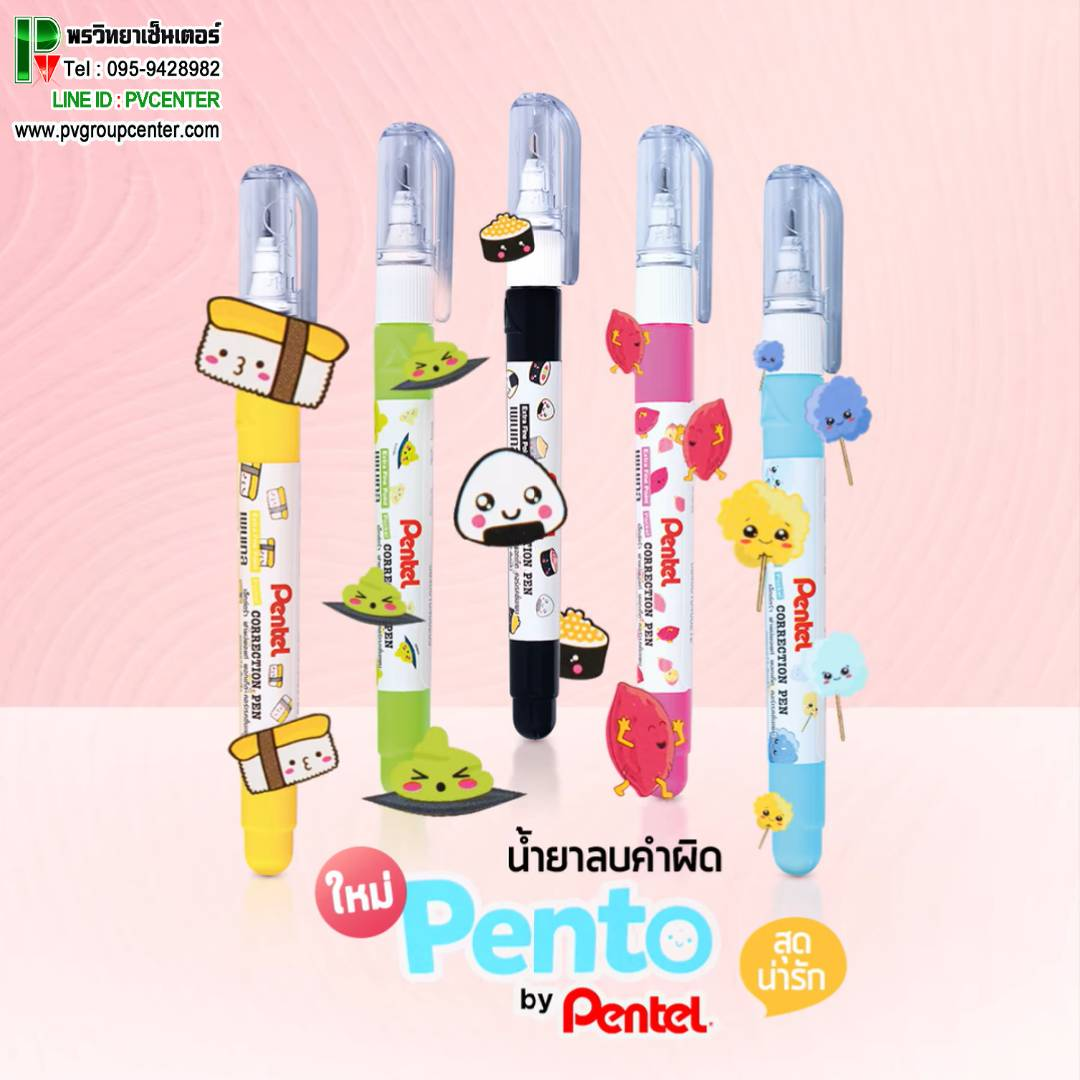Correction_fluid: (740, 157, 854, 908), (215, 159, 326, 886), (613, 112, 723, 817), (482, 60, 592, 765), (349, 108, 459, 813)
